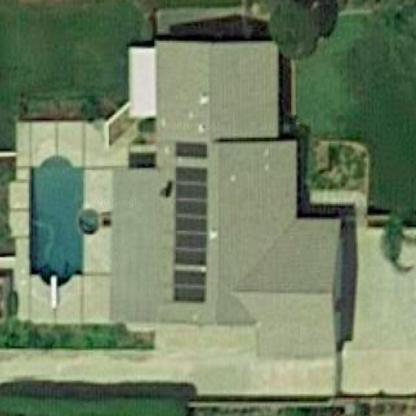solar_panel: (161, 131, 223, 309)
swimming_pool: (19, 138, 102, 299)
